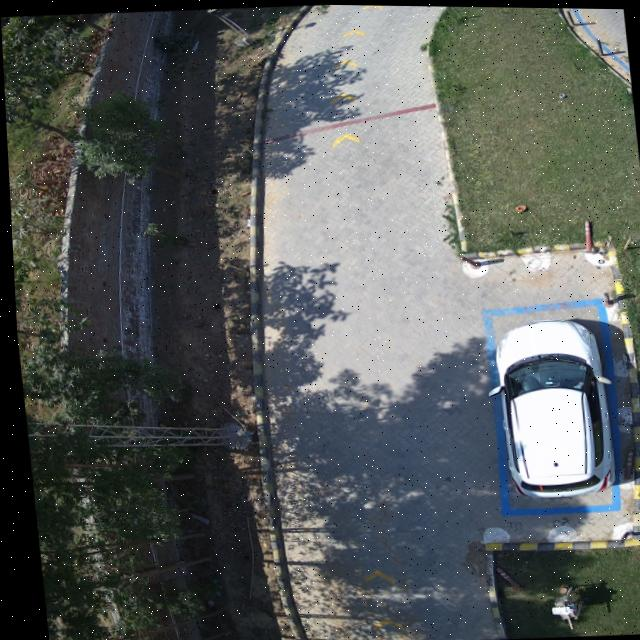car: (486, 317, 611, 495)
